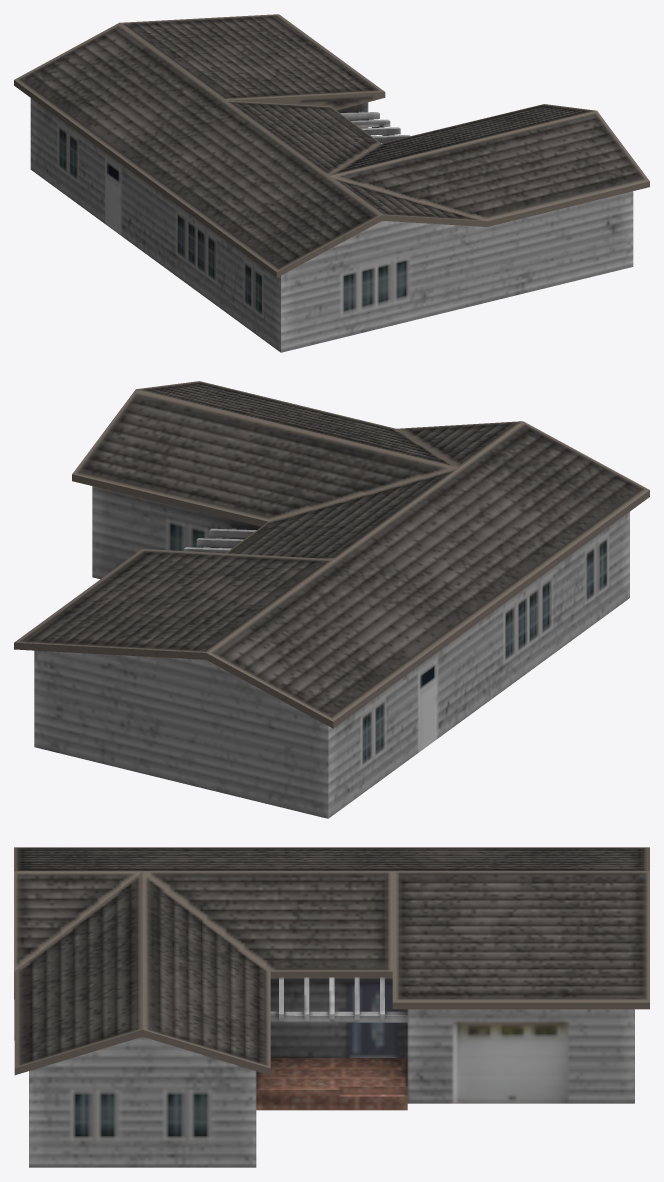
Rendered from house1_001.fbx.
3 renders of one model, top to bottom at view 1: azimuth 30°, elevation 25°; view 2: azimuth 150°, elevation 25°; view 3: azimuth 270°, elevation 25°, orthographic. The views are drawn at different scales.
Visible parts, largest first — view 1: ISL_House_01_geo_V4; view 2: ISL_House_01_geo_V4; view 3: ISL_House_01_geo_V4.
Part boxes in pixels (x1,y1,x2,y2): ISL_House_01_geo_V4: [14, 14, 649, 352]; ISL_House_01_geo_V4: [14, 381, 649, 818]; ISL_House_01_geo_V4: [14, 847, 649, 1167].
Size of the model in its own units: 1132 by 361 by 1379.
1 material, 1 textured.
